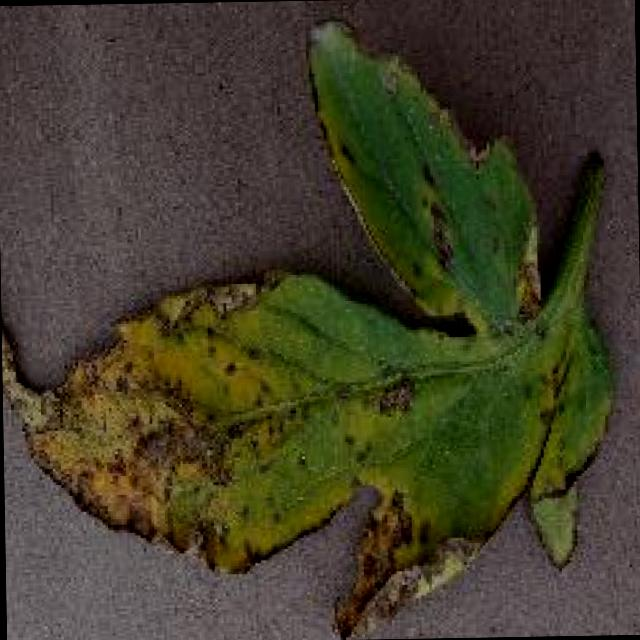bacterial spot: (0, 16, 615, 640)
